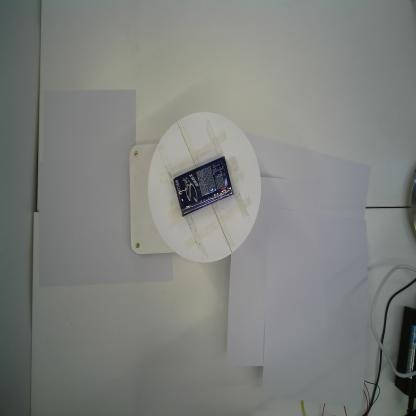Gum: (172, 155, 235, 217)
